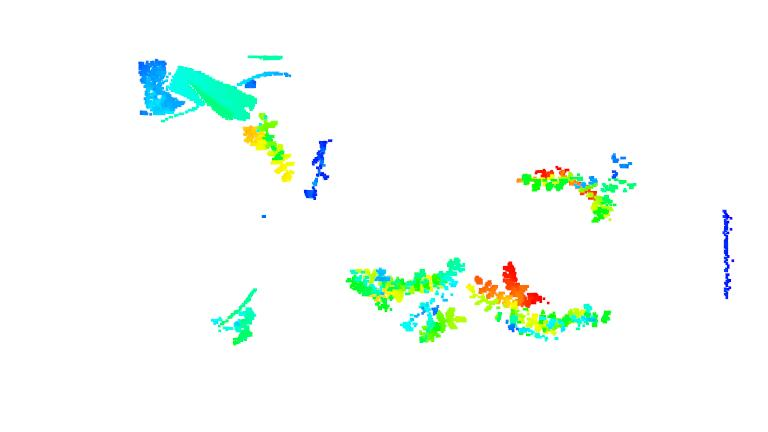chickpea: (470, 260, 613, 342), (518, 152, 640, 227), (399, 257, 473, 347), (345, 258, 431, 321), (232, 113, 299, 193), (215, 291, 264, 345)
